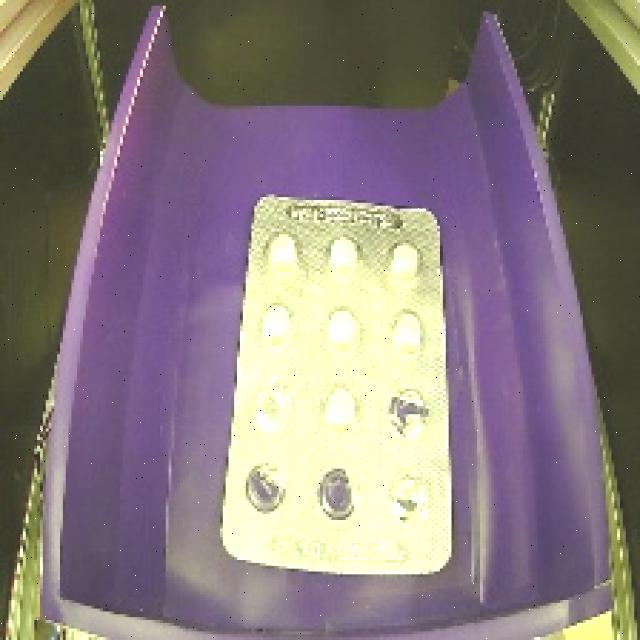med_plate: (216, 182, 457, 584)
